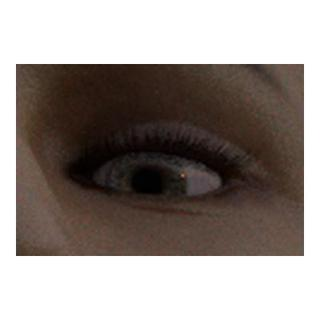pupil: (133, 171, 161, 200)
